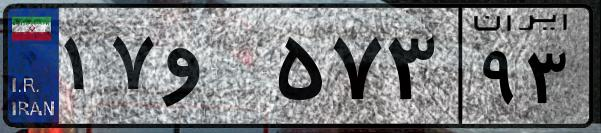1: (57, 26, 110, 100)
3: (385, 28, 445, 110), (525, 38, 570, 115)
5: (270, 28, 330, 110)
7: (330, 28, 385, 110), (110, 28, 158, 98)
9: (475, 38, 525, 113)
و: (158, 20, 270, 120)
